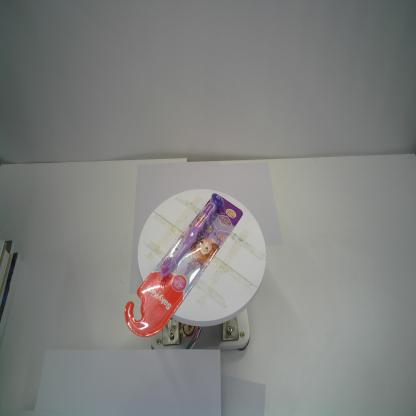Personal Hygiene: (124, 192, 244, 338)
